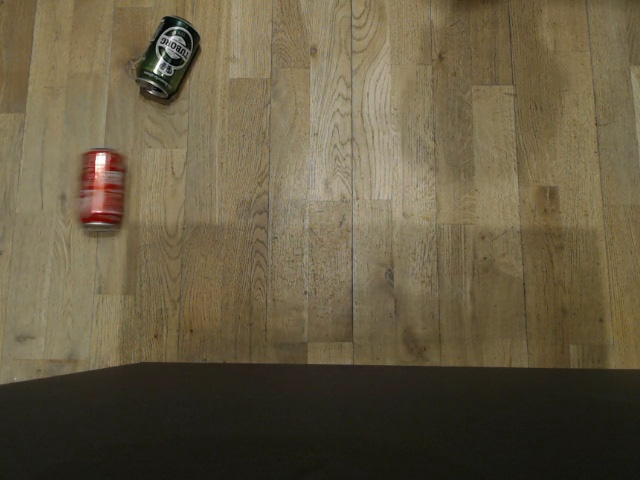beer: (131, 11, 204, 102)
cola: (75, 145, 129, 232)
